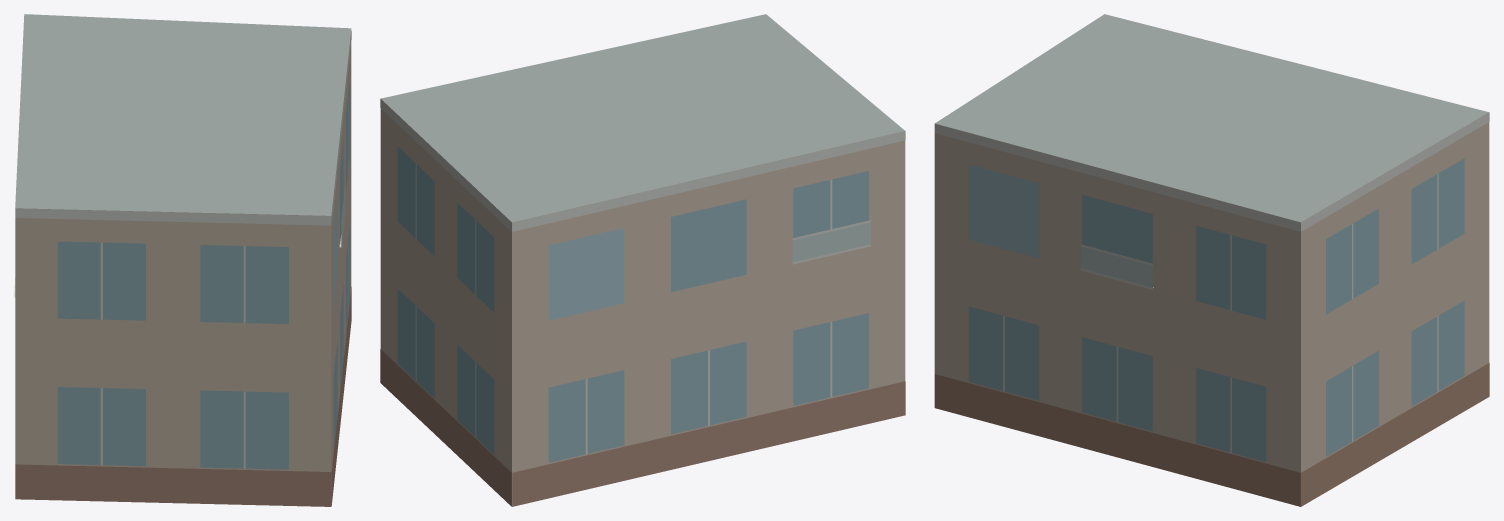
The model's file is survey-upis-32496941.glb.
The picture shows the model from 3 angles, left to right: view 1: azimuth 30°, elevation 25°; view 2: azimuth 150°, elevation 25°; view 3: azimuth 270°, elevation 25°; orthographic projection. The views are drawn at different scales.
Visible parts, largest first — view 1: survey-upis-32496941.tmp; view 2: survey-upis-32496941.tmp; view 3: survey-upis-32496941.tmp.
Part boxes in pixels (x1,y1,x2,y2): survey-upis-32496941.tmp: [14, 14, 351, 506]; survey-upis-32496941.tmp: [380, 14, 905, 506]; survey-upis-32496941.tmp: [934, 14, 1489, 506].
Size of the model in its own units: 11.48 by 7.3 by 12.91.
